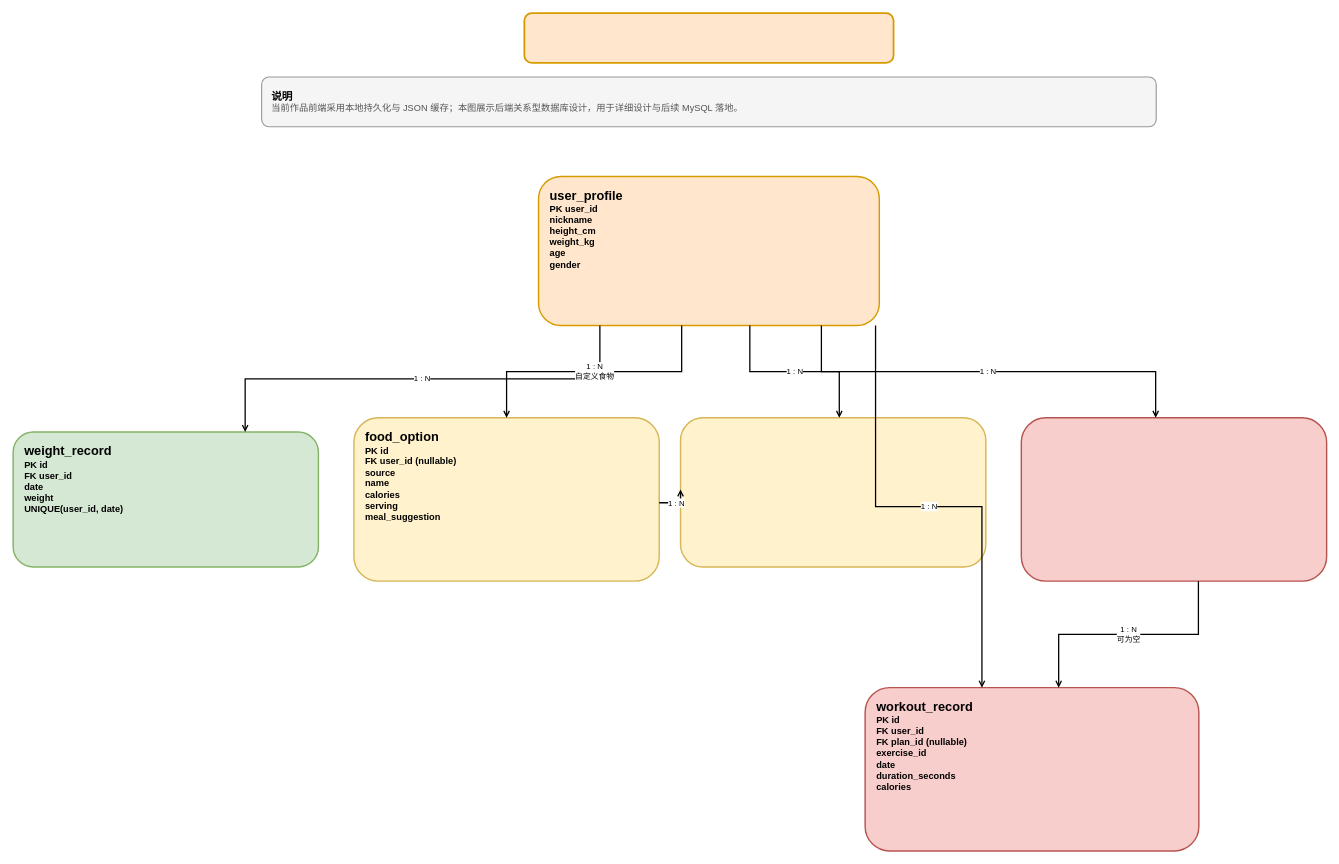
This 1339x864 diagram has some shape labels left out. The shapes that lost their labels are listed below. From the top down, each one's centre as x and y in pixels, then its label:
point (708, 37): 图5 数据库 ER 图
point (832, 492): food_plan PK id FK user_id FK food_id date meal_type notes
point (1173, 499): workout_plan PK id FK user_id date title summary draft_text saved_workout_id
